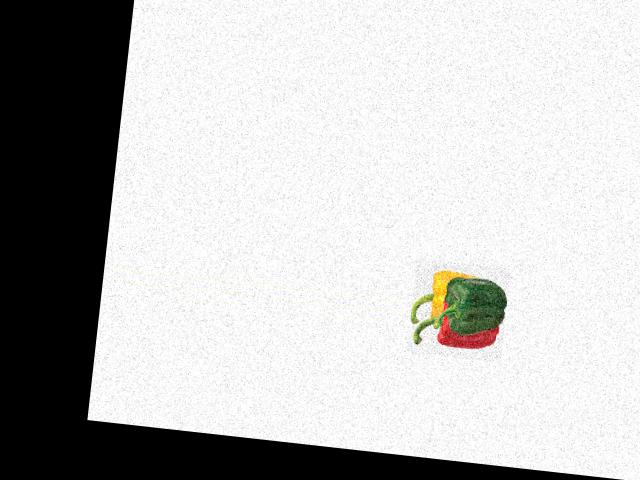bell_pepper: (409, 299, 503, 363)
